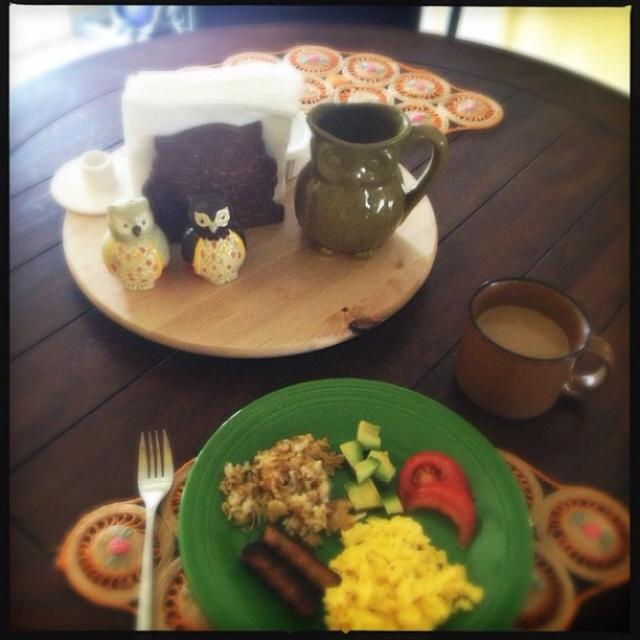chair: (348, 3, 465, 39)
dining table: (65, 20, 633, 509), (8, 68, 190, 628)
